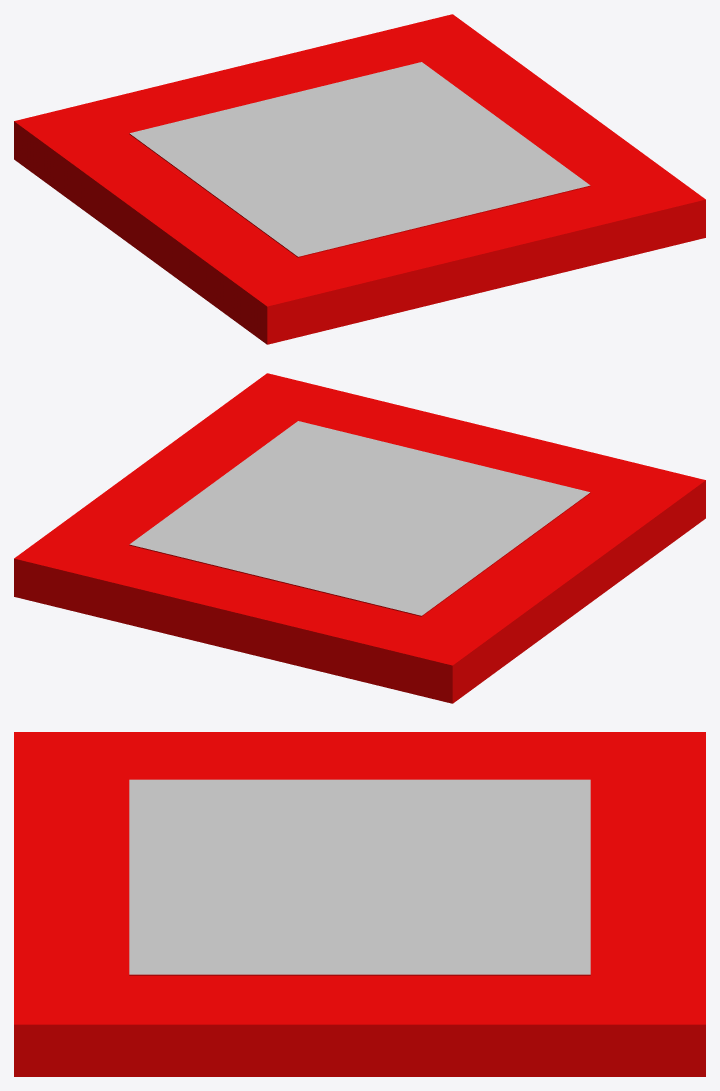
3 renders of one model, top to bottom at view 1: azimuth 30°, elevation 25°; view 2: azimuth 150°, elevation 25°; view 3: azimuth 270°, elevation 25°, orthographic. The views are drawn at different scales.
Visible parts, largest first — view 1: Part 1; view 2: Part 1; view 3: Part 1.
Boxes of the visible parts, box(x1,y1,x2,y2) form: Part 1: box(14, 14, 705, 344); Part 1: box(14, 373, 705, 703); Part 1: box(14, 732, 705, 1076).
Size of the model in its own units: 1.2 by 0.1025 by 1.2.
